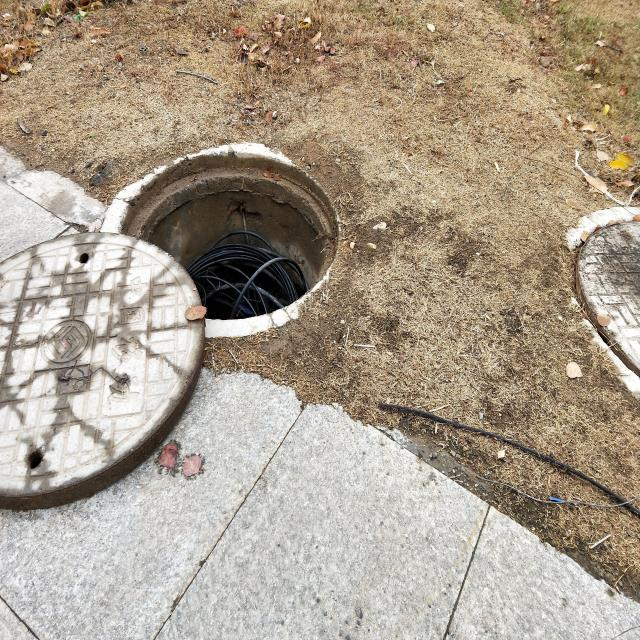Faulty: (2, 145, 337, 508)
